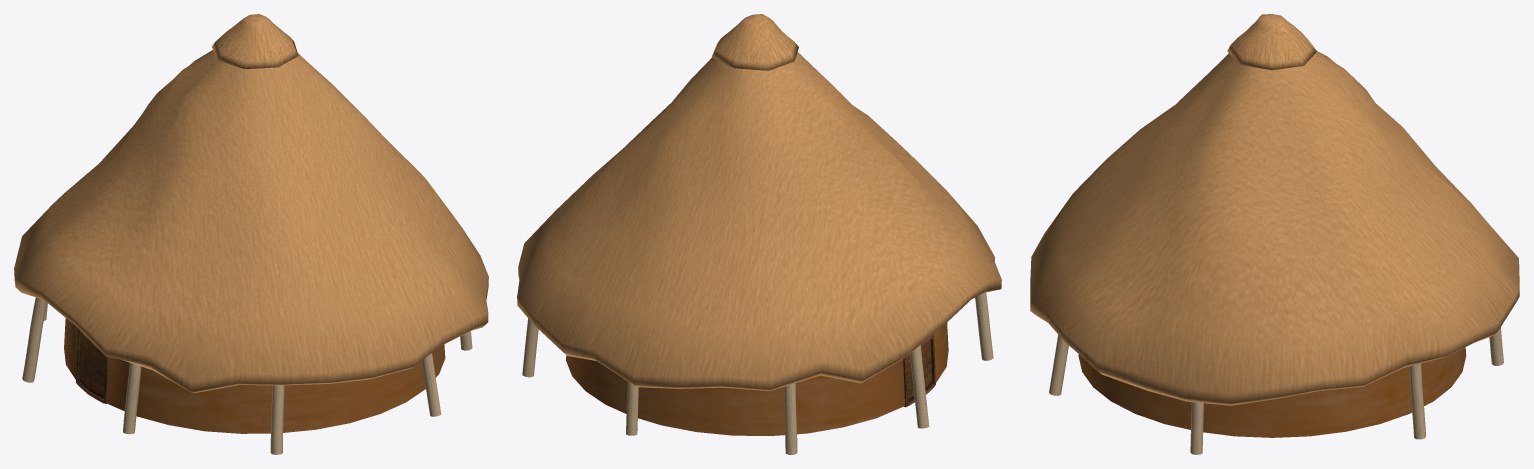
File: House 5.fbx
3 views of the same model, side by side, from view 1: azimuth 30°, elevation 25°; view 2: azimuth 150°, elevation 25°; view 3: azimuth 270°, elevation 25° (orthographic).
Visible parts, largest first — view 1: House.005; view 2: House.005; view 3: House.005.
Boxes of the visible parts, x1,y1,x2,y2 form: House.005: [14, 14, 488, 454]; House.005: [517, 14, 1001, 454]; House.005: [1030, 14, 1519, 454].
Bounding box in the file's own units: 3.91 × 3.05 × 3.86.
